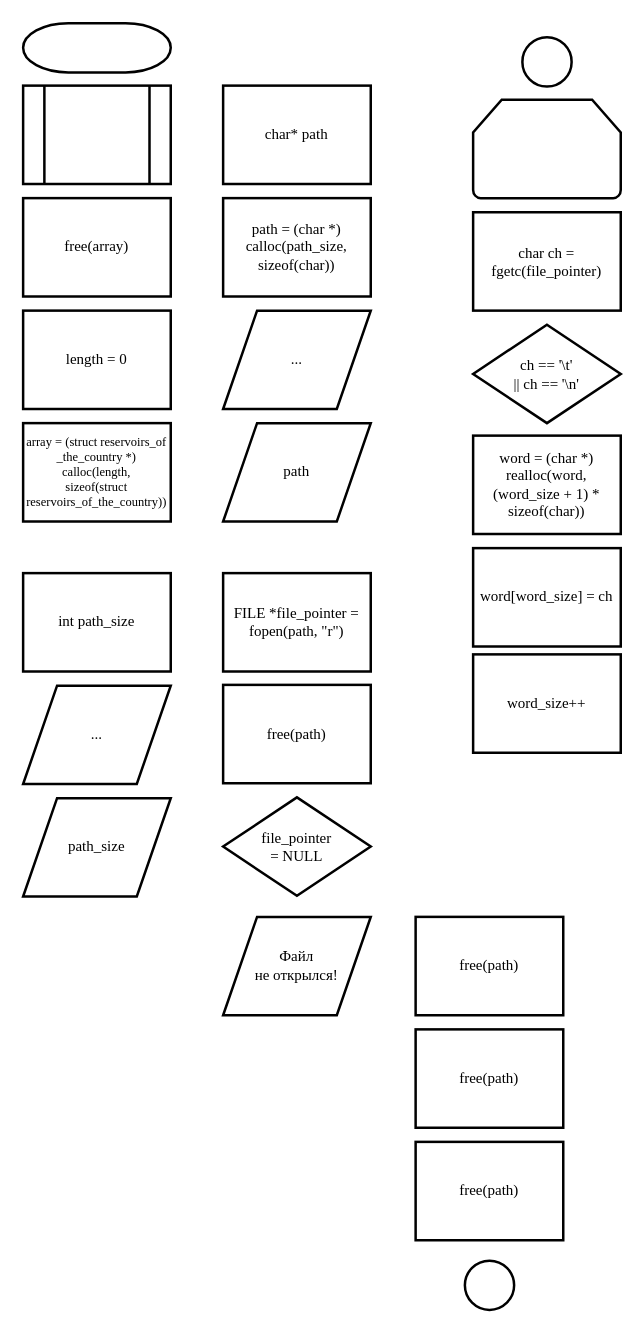
This 644x1333 diagram has some shape labels left out. The centre of each missing label's shape, as x and y in pixels:
"!feof(file_pointer)" goes at point 546,148.
"clear_console()" goes at point 96,134.
